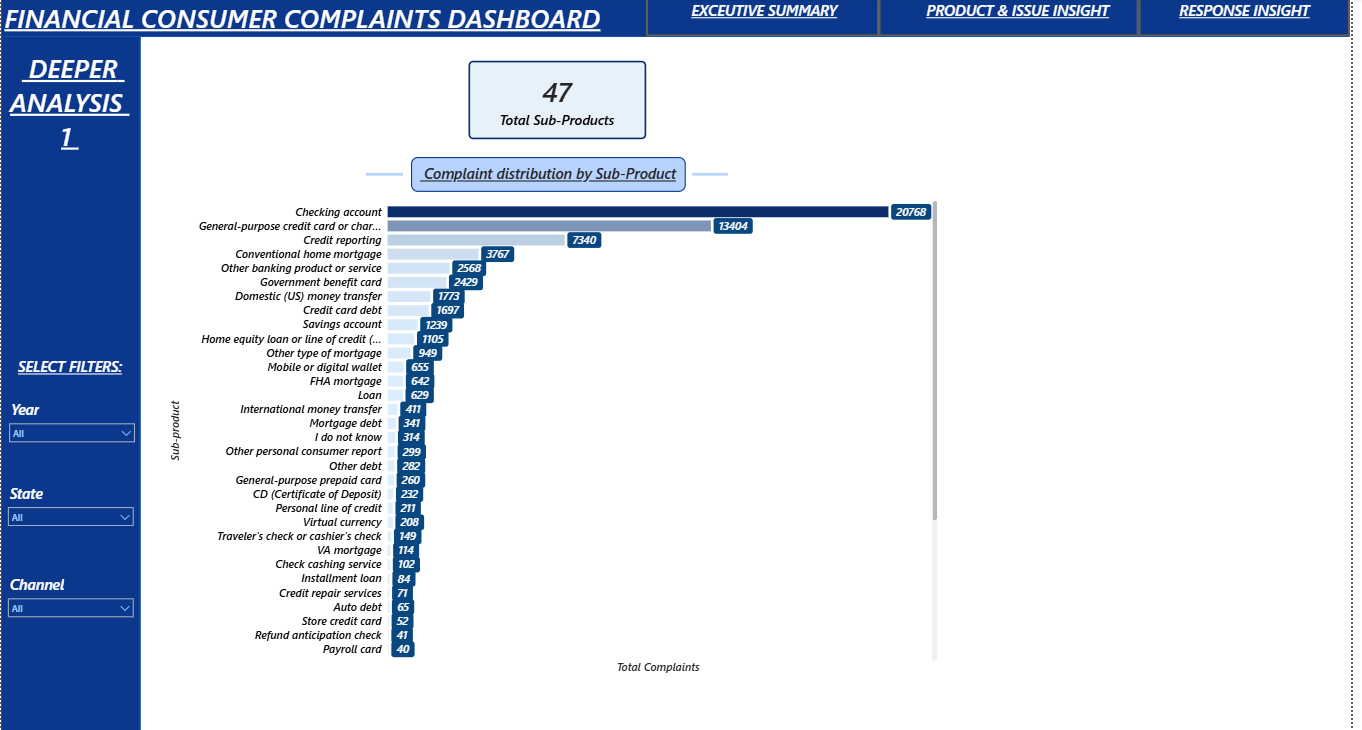

Layout of this report page (visuals, bound fields, positions):
{"tool":"powerbi","page":{"name":"Deeper Analysis 1","canvas":[1980,1080],"ordinal":3},"visuals":[{"type":"actionButton","box":[946.5,0,342,57.9],"z":0,"group":"g2"},{"type":"actionButton","box":[1287.6,0,381.8,57.9],"z":0,"group":"g3"},{"type":"actionButton","box":[1669.2,0,310.2,57.9],"z":0,"group":"g4"},{"type":"textbox","box":[601.8,234.8,402.9,51],"z":0,"group":"g1"},{"type":"clusteredBarChart","fields":{"Category":["dim_product.Sub-product"],"Y":["CountNonNull(fact_complaint.Complaint ID)"]},"box":[244,286.1,1135.4,711.7],"z":0},{"type":"textbox","box":[1001,0,237.1,57.9],"z":1000,"group":"g2"},{"type":"textbox","box":[1340.2,0,302.2,57.9],"z":1000,"group":"g3"},{"type":"textbox","box":[1710.5,0,226.4,57.9],"z":1000,"group":"g4"},{"type":"card","fields":{"Values":["Count(dim_product.Sub-product)"]},"box":[686,93.5,260.5,115.6],"z":1000},{"type":"shape","box":[535.6,239.6,54.4,39.7],"z":1000,"group":"g1"},{"type":"shape","box":[0,57.5,204.5,1022.5],"z":2000},{"type":"shape","box":[1013.8,240,52.1,39.7],"z":2000,"group":"g1"},{"type":"shape","box":[0,0,1979.2,58.7],"z":3000},{"type":"textbox","box":[0,0,908,71.5],"z":4000},{"type":"group","id":"g1","title":"Group 1","box":[535.6,234.8,530.1,51.4],"z":5000},{"type":"textbox","box":[0,56.9,201.8,231.1],"z":6000},{"type":"slicer","fields":{"Values":["dim_date.Year"]},"box":[1.8,584.5,204.5,70.6],"z":7000},{"type":"slicer","fields":{"Values":["dim_location.State"]},"box":[0,707.6,204.5,70.6],"z":8000},{"type":"slicer","fields":{"Values":["dim_channel.Submitted via"]},"box":[0,841.5,204.5,70.6],"z":9000},{"type":"textbox","box":[0,523,202.7,45.2],"z":10000},{"type":"group","id":"g2","title":"Group 4","box":[946.5,0,341.2,58.7],"z":11000},{"type":"group","id":"g3","title":"Group 5","box":[1287.6,0,381.5,58.7],"z":12000},{"type":"group","id":"g4","title":"Group 5","box":[1669.2,0,310,58.7],"z":13000}]}

Visuals, with their boxes in screenshot pixels (x1, y1, x2, y2), scaled from the page's 1980x1080 canvas onto the 1362x730 screenshot:
actionButton: [x1=651, y1=0, x2=886, y2=39]
actionButton: [x1=886, y1=0, x2=1148, y2=39]
actionButton: [x1=1148, y1=0, x2=1361, y2=39]
textbox: [x1=414, y1=159, x2=691, y2=193]
clusteredBarChart - dim_product.Sub-product x CountNonNull(fact_complaint.Complaint ID): [x1=168, y1=193, x2=949, y2=674]
textbox: [x1=689, y1=0, x2=852, y2=39]
textbox: [x1=922, y1=0, x2=1130, y2=39]
textbox: [x1=1177, y1=0, x2=1332, y2=39]
card - Count(dim_product.Sub-product): [x1=472, y1=63, x2=651, y2=141]
shape: [x1=368, y1=162, x2=406, y2=189]
shape: [x1=0, y1=39, x2=141, y2=729]
shape: [x1=697, y1=162, x2=733, y2=189]
shape: [x1=0, y1=0, x2=1361, y2=40]
textbox: [x1=0, y1=0, x2=625, y2=48]
"Group 1" group: [x1=368, y1=159, x2=733, y2=193]
textbox: [x1=0, y1=38, x2=139, y2=195]
slicer - dim_date.Year: [x1=1, y1=395, x2=142, y2=443]
slicer - dim_location.State: [x1=0, y1=478, x2=141, y2=526]
slicer - dim_channel.Submitted via: [x1=0, y1=569, x2=141, y2=617]
textbox: [x1=0, y1=354, x2=139, y2=384]
"Group 4" group: [x1=651, y1=0, x2=886, y2=40]
"Group 5" group: [x1=886, y1=0, x2=1148, y2=40]
"Group 5" group: [x1=1148, y1=0, x2=1361, y2=40]
